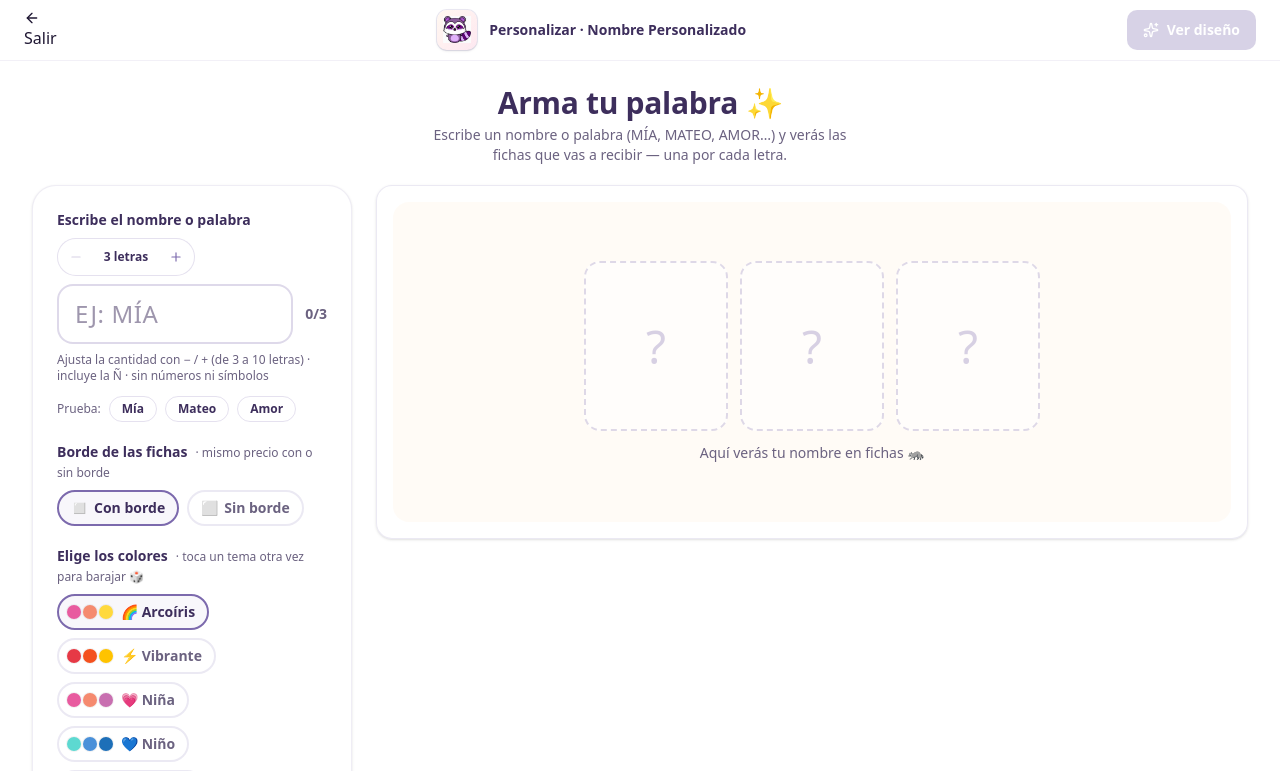
Test: NameEditor — vista previa antes del carrito › QA ronda 2 (owner 2026-10-07): header sticky y panel dicen «Ver diseño» (mismo rótulo, misma acción)
This screenshot has width=1280, height=771.
Type "LUCIA" into the field at (175, 314), box [57,284,293,344]
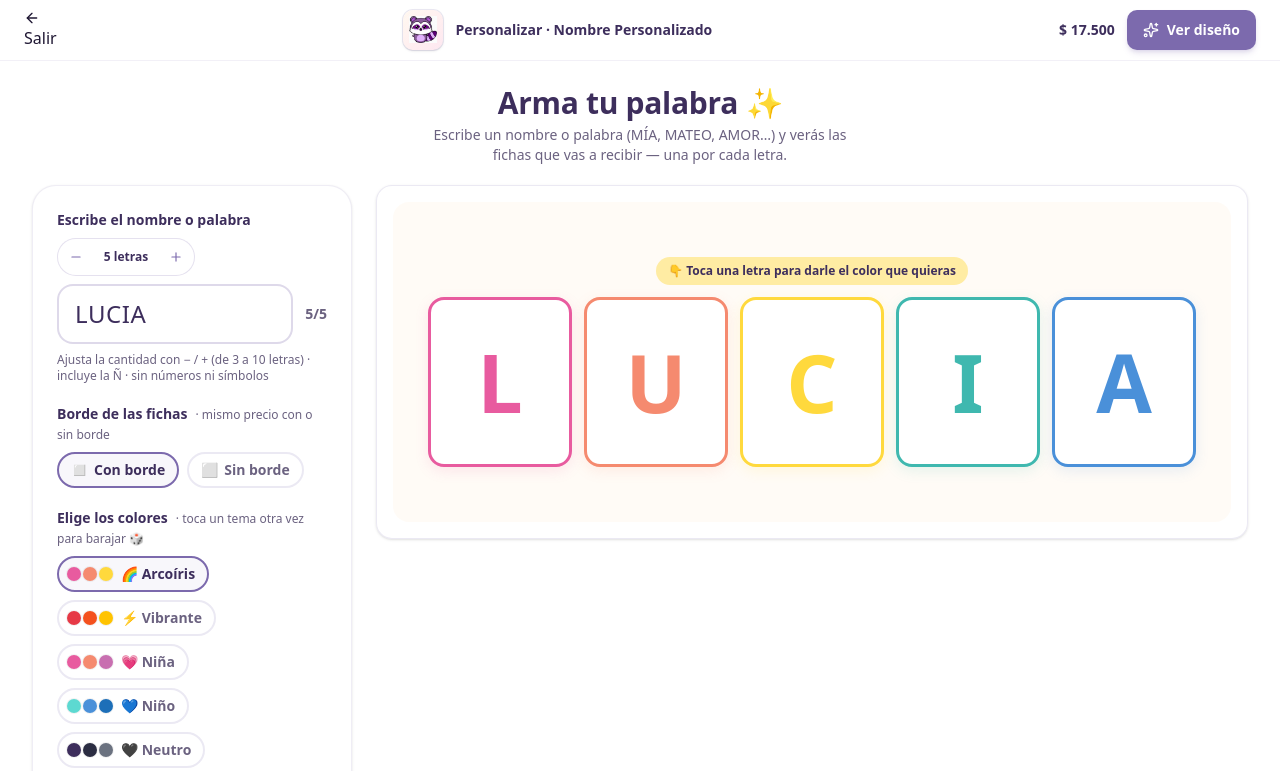
Expected: the button "Vista previa" is not shown
El CTA del header sticky (el primero en el DOM) abre la MISMA vista previa.
Click the button "Ver diseño" at (1191, 30), box [1127,10,1256,50]
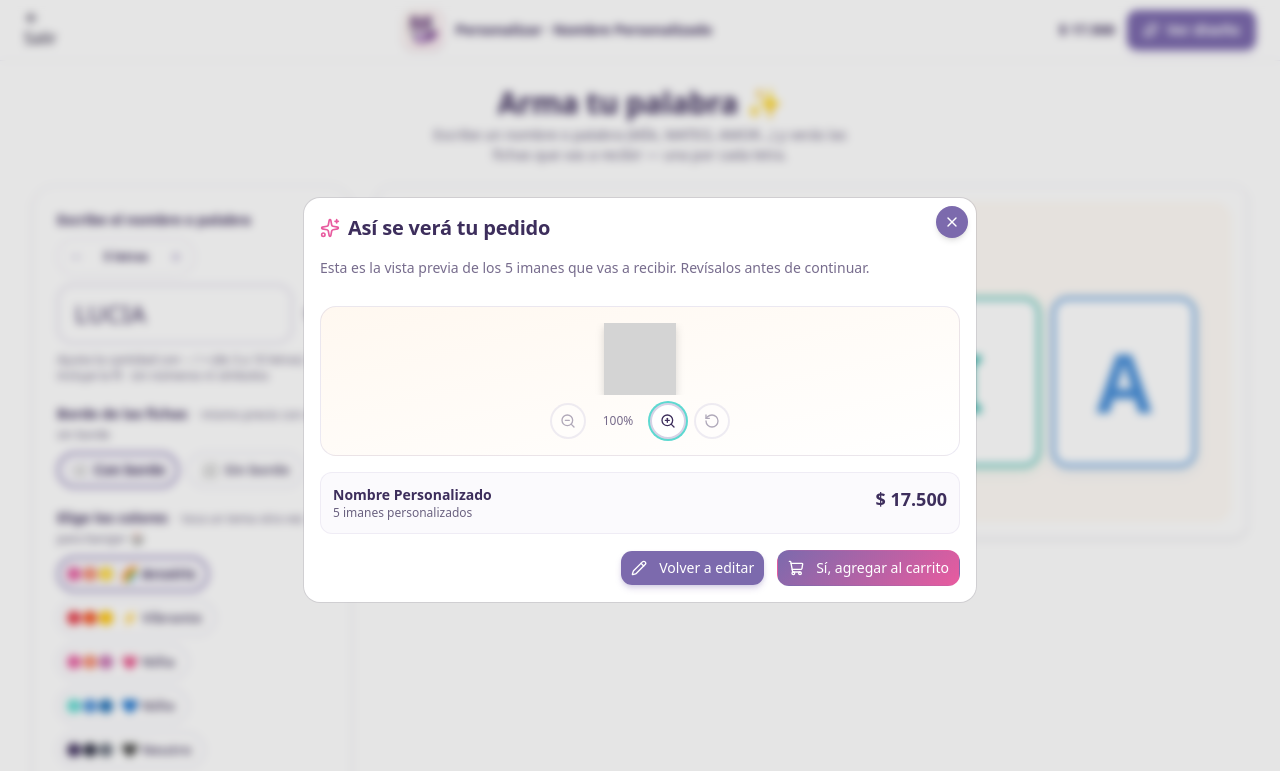
Expected: the heading "Así se verá tu pedido" is shown, [320,214,550,241]
